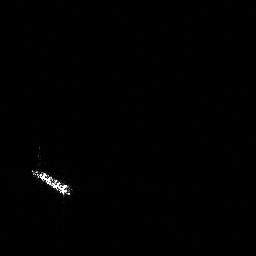ship: (31, 169, 72, 195)
